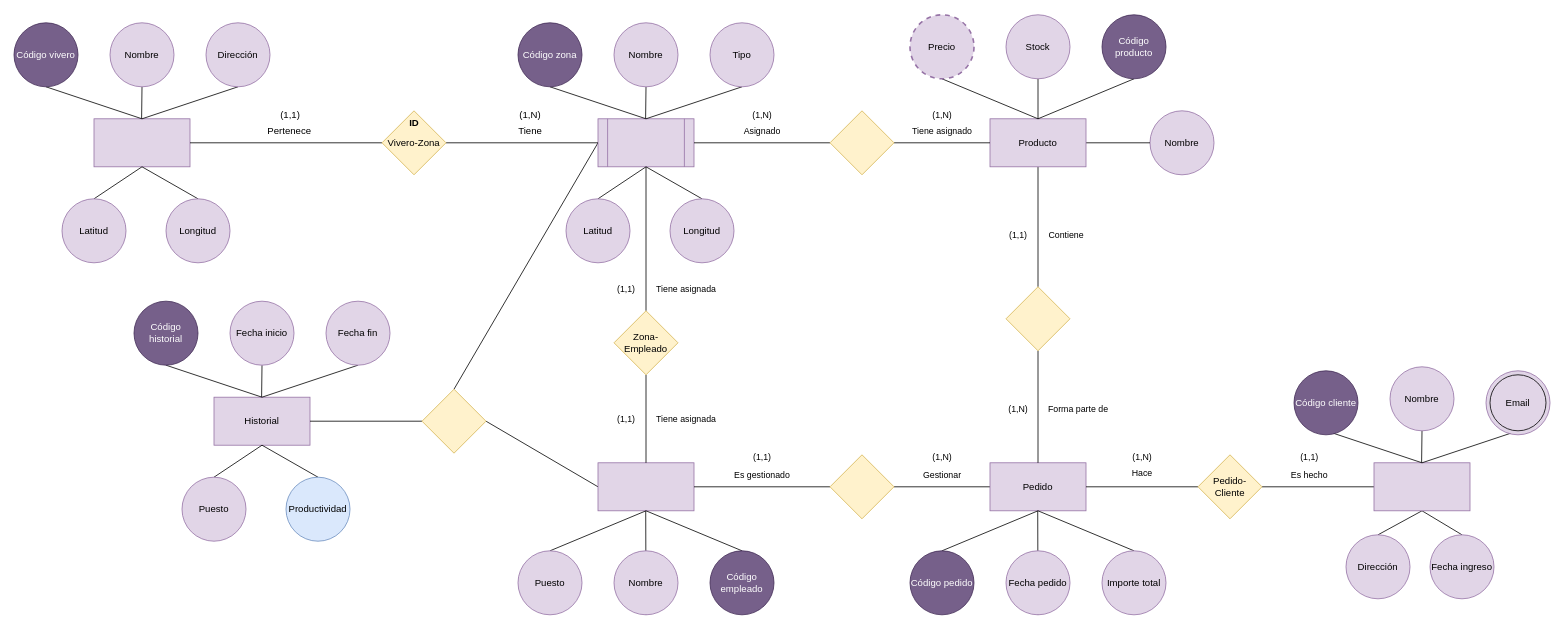
This 1564x630 diagram has some shape labels left out. Each missing label, with the centre of its shape:
Cliente: the point at 1421,486
Empleado: the point at 645,486
Empleado-Pedido: the point at 861,486
Producto-Pedido: the point at 1037,318
Vivero: the point at 141,142
Zona: the point at 645,142
Zona-Empleado-Historial: the point at 453,420
Zona-Producto: the point at 861,142
